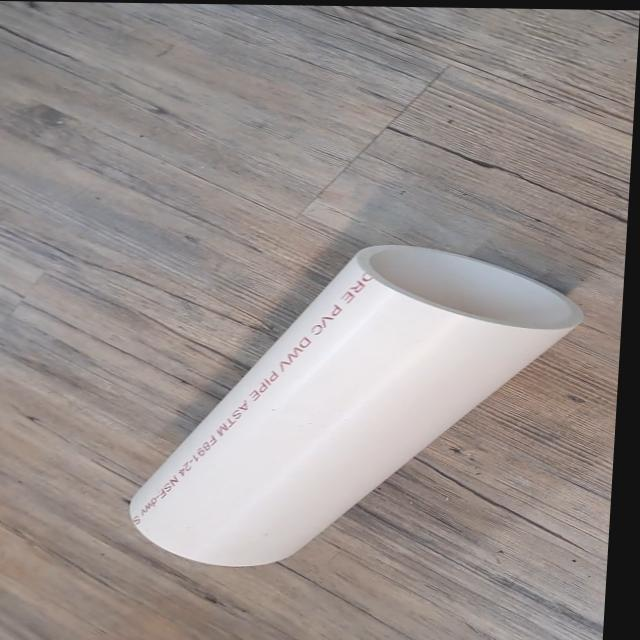CORAL: (116, 236, 594, 576)
